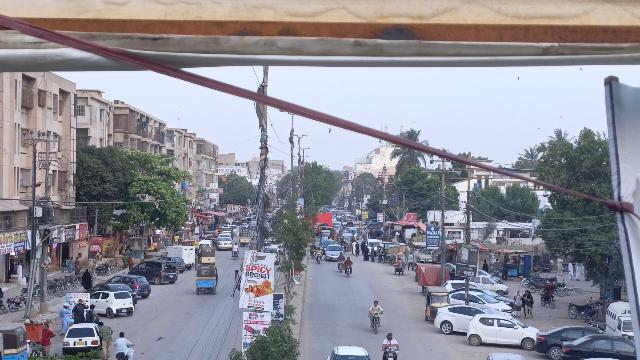Bike: (369, 310, 383, 333), (343, 264, 354, 277), (384, 349, 397, 360), (115, 352, 129, 360)
Car: (466, 312, 536, 351), (532, 321, 598, 357), (558, 330, 634, 360), (433, 302, 489, 337), (131, 259, 180, 287), (61, 321, 101, 355)
Person: (38, 323, 56, 360), (113, 330, 134, 355), (98, 320, 112, 357), (70, 297, 85, 323), (59, 302, 70, 337), (382, 331, 400, 351), (511, 286, 522, 317), (231, 267, 242, 297), (524, 290, 534, 320), (368, 298, 383, 312), (344, 256, 353, 265)
Rickshaw: (423, 284, 448, 323), (194, 263, 220, 297), (199, 245, 216, 266), (161, 196, 163, 197)
Suzuki: (602, 301, 634, 343)
Truck: (166, 244, 196, 266)
